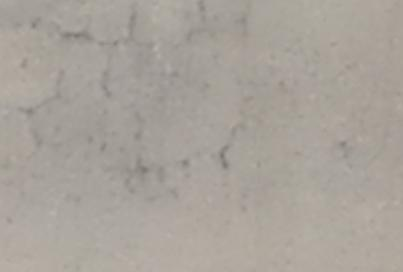fissura: (16, 11, 241, 191)
